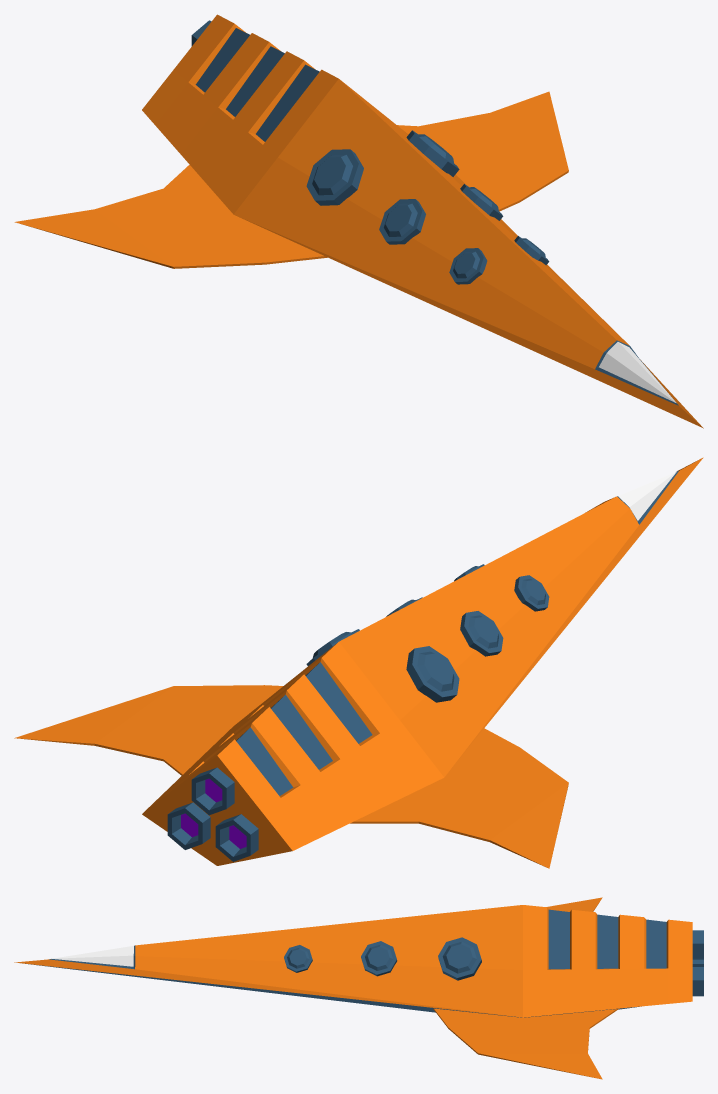
Rendered from Low_Poly_Spaceship_004.obj.
The picture shows the model from 3 angles, top to bottom: view 1: azimuth 30°, elevation 25°; view 2: azimuth 150°, elevation 25°; view 3: azimuth 270°, elevation 25°; orthographic projection. The views are drawn at different scales.
Visible parts, largest first — view 1: Low_Poly_Spaceship_004_Cube.003; view 2: Low_Poly_Spaceship_004_Cube.003; view 3: Low_Poly_Spaceship_004_Cube.003.
Boxes of the visible parts, x1,y1,x2,y2 form: Low_Poly_Spaceship_004_Cube.003: (14, 14, 703, 428); Low_Poly_Spaceship_004_Cube.003: (14, 457, 703, 868); Low_Poly_Spaceship_004_Cube.003: (14, 897, 703, 1079).
Bounding box in the file's own units: 5.08 × 1.54 × 8.13.
